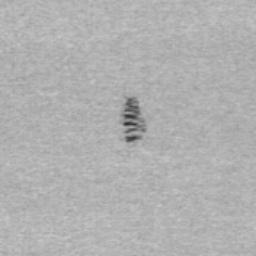Secondary rust skin: (123, 96, 146, 143)
